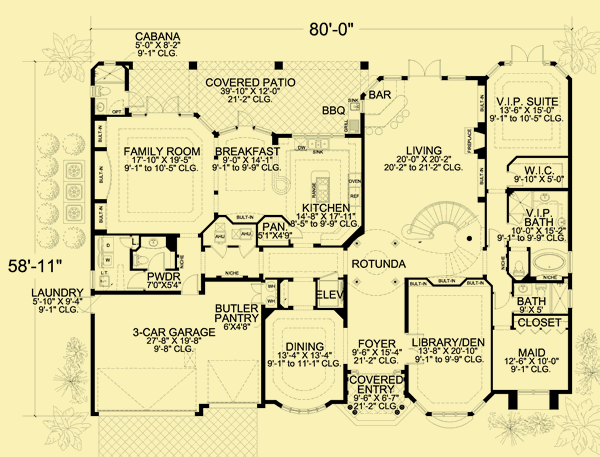bathroom has a shower space with small and large sink: (89, 61, 132, 118), (512, 277, 569, 318)
bathroom has a shower space with small and large sink and bathtub: (506, 187, 570, 281)
kitchen has a cooking range with sink: (285, 134, 367, 250)
laundry room has washer and dryer: (89, 233, 134, 296)
small bathroom has small and large sink: (130, 233, 178, 270)
there are stairs in the open area: (367, 196, 484, 284)
